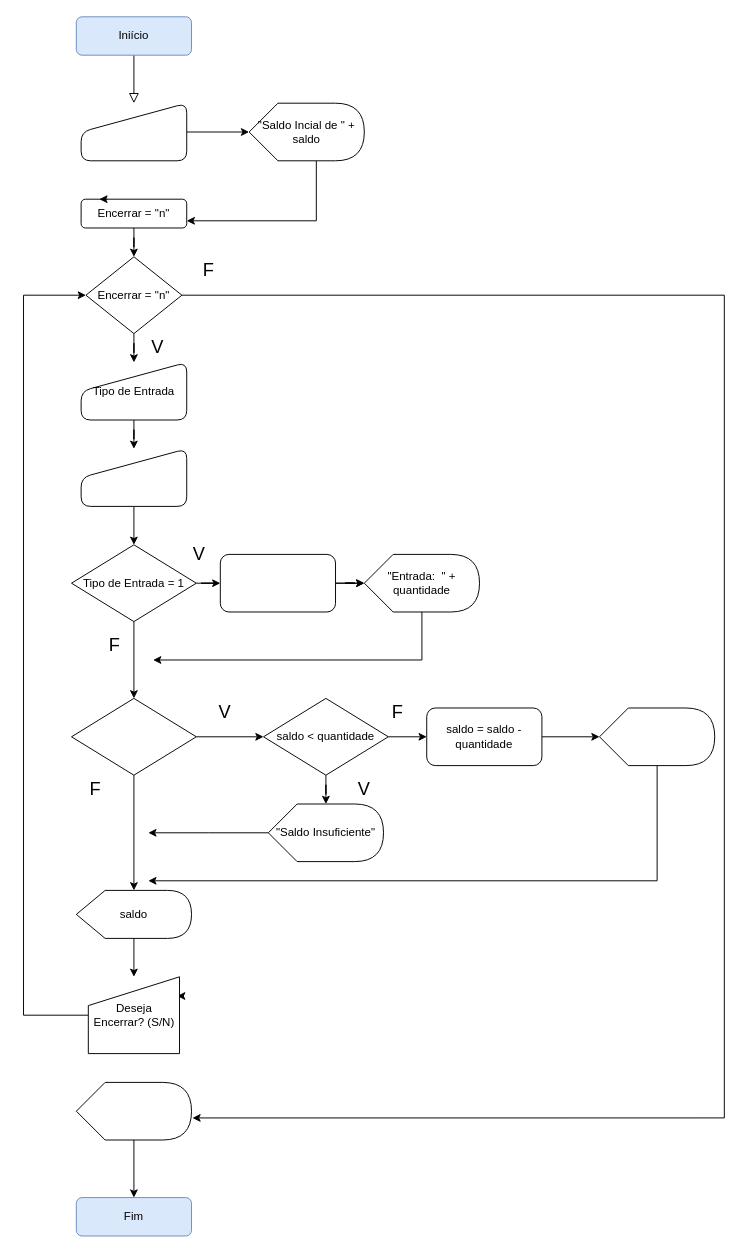
Some shapes in this 749 by 1253 pixel diagram are drawn without their labels. The centre of each missing label's shape, as x and y in pixels:
"Saída: " + quantidade: point (657, 736)
"Sistema Encerrado": point (133, 1110)
Pedir Saldo: point (133, 131)
Quantidade: point (133, 477)
saldo = saldo + quantidade: point (277, 582)
Tipo de Entrada =2: point (133, 736)
